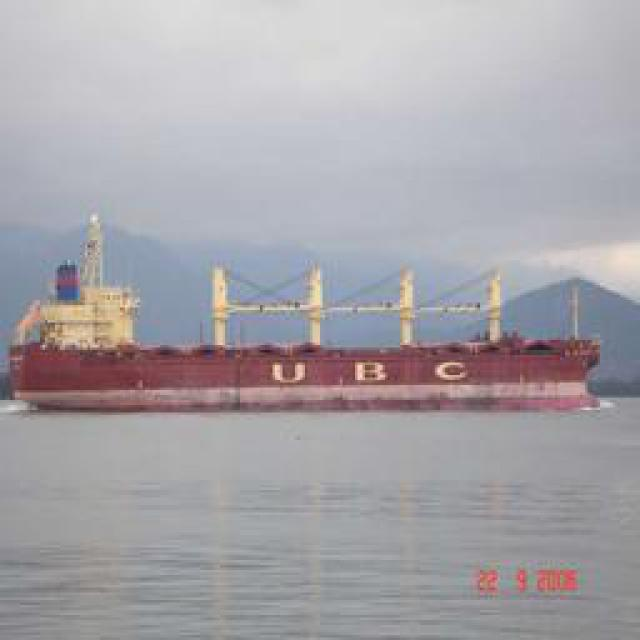Ship: (15, 226, 600, 411)
